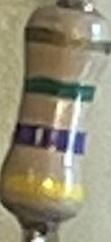Blue: (13, 121, 87, 154)
Green: (23, 74, 96, 103)
Side-Silver: (25, 24, 110, 55)
Yellow: (2, 169, 84, 203)
